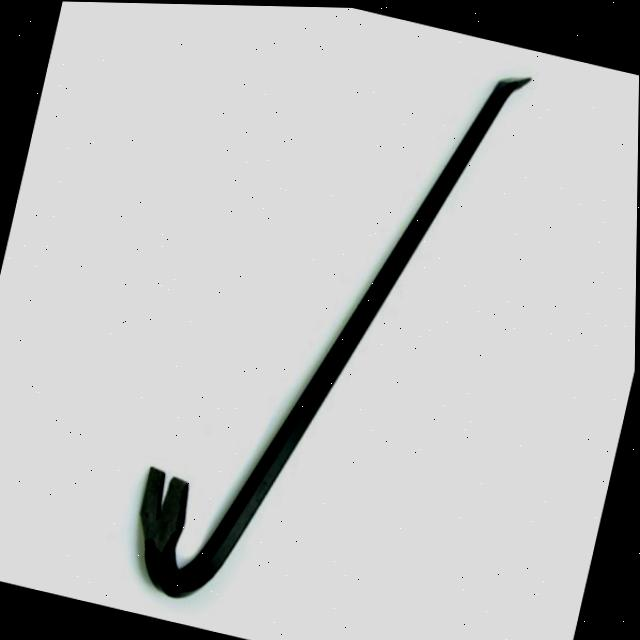crow bar: (101, 63, 540, 621)
